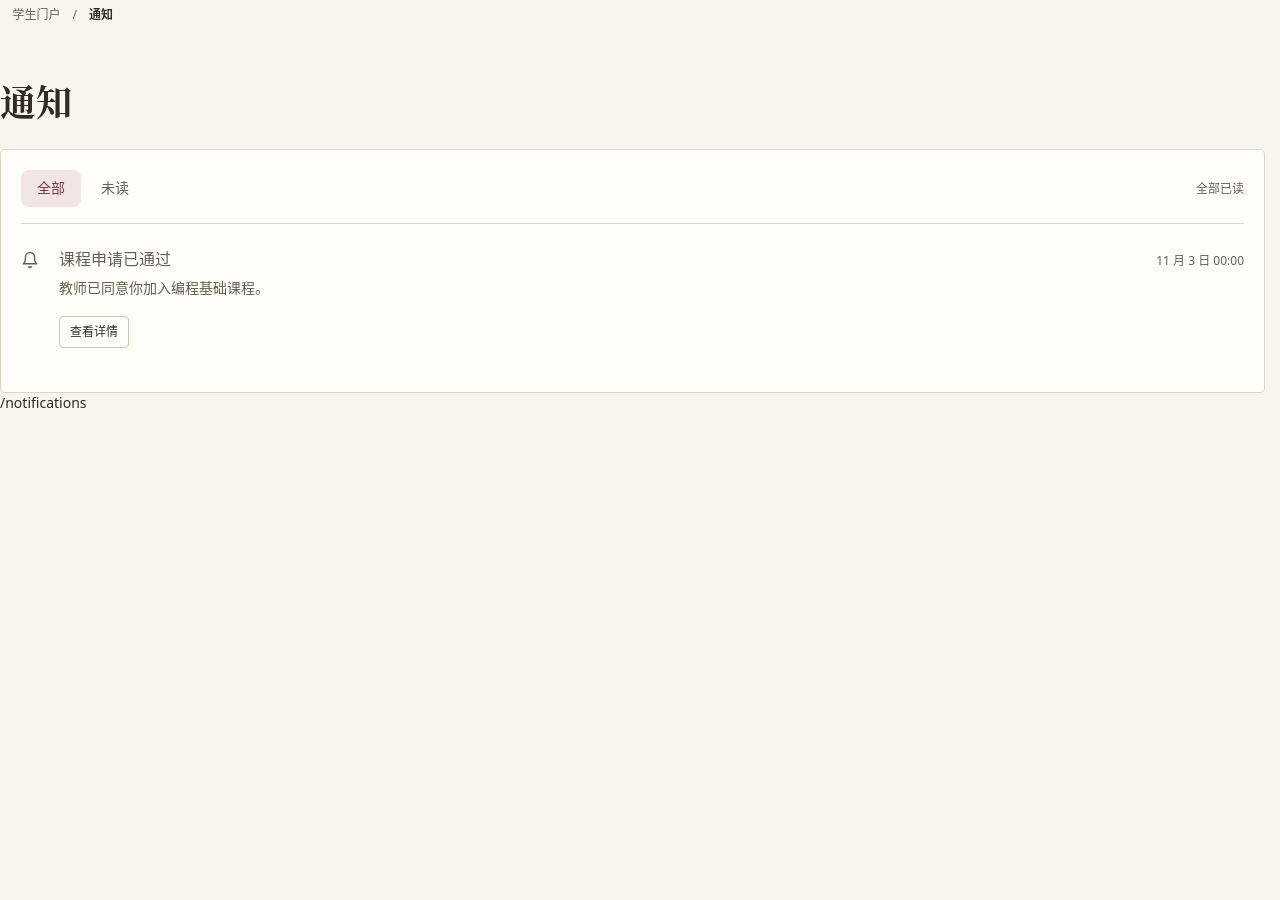
Test: 已读通知可以查看正文而不重复标记
The width and height of the screenshot is (1280, 900).
What coordinates should you click on to do the following:
click the button "查看详情"
I would click on:
 (94, 332)
Its box is [59,316,129,348].
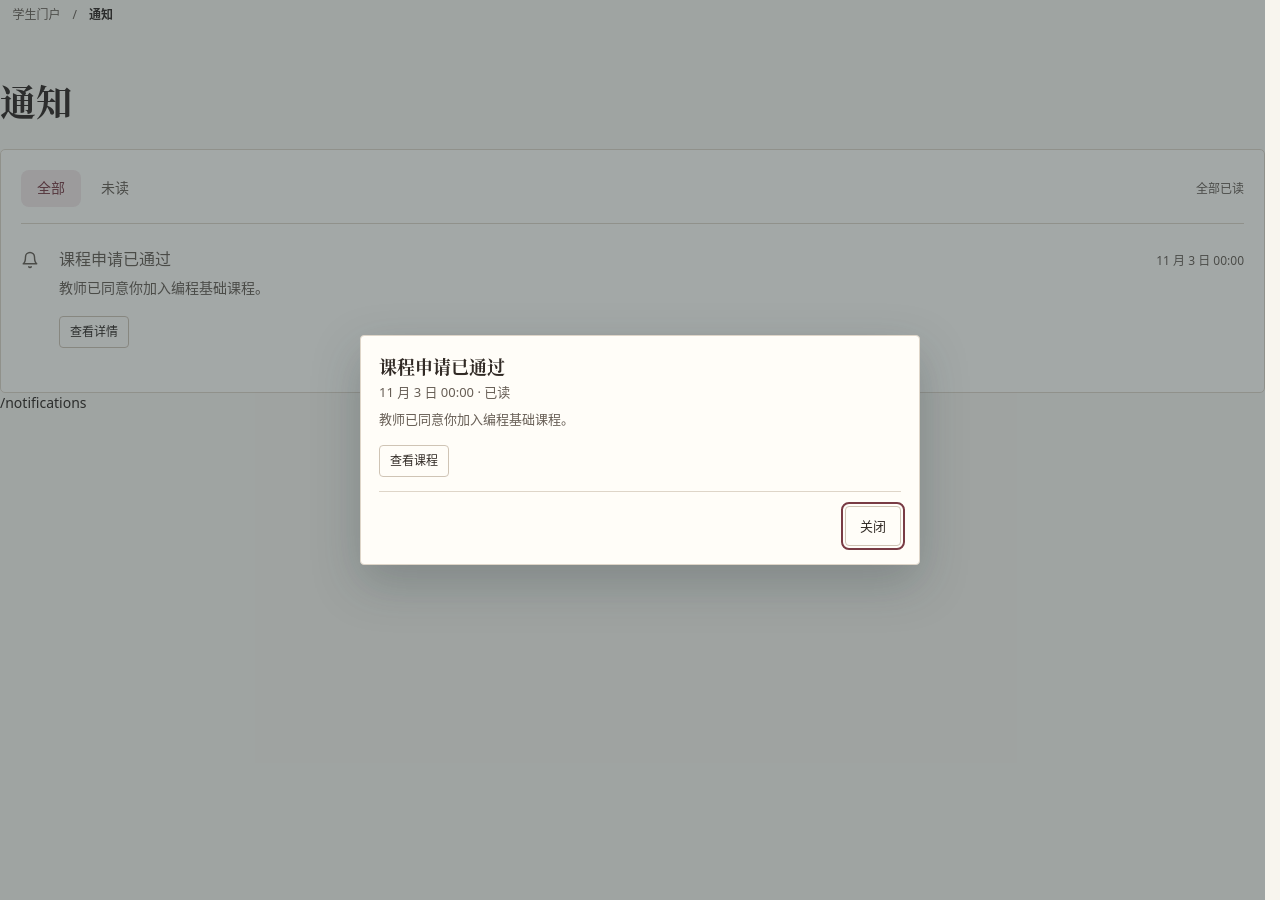
Expected: the dialog is shown, [360,335,920,565]
